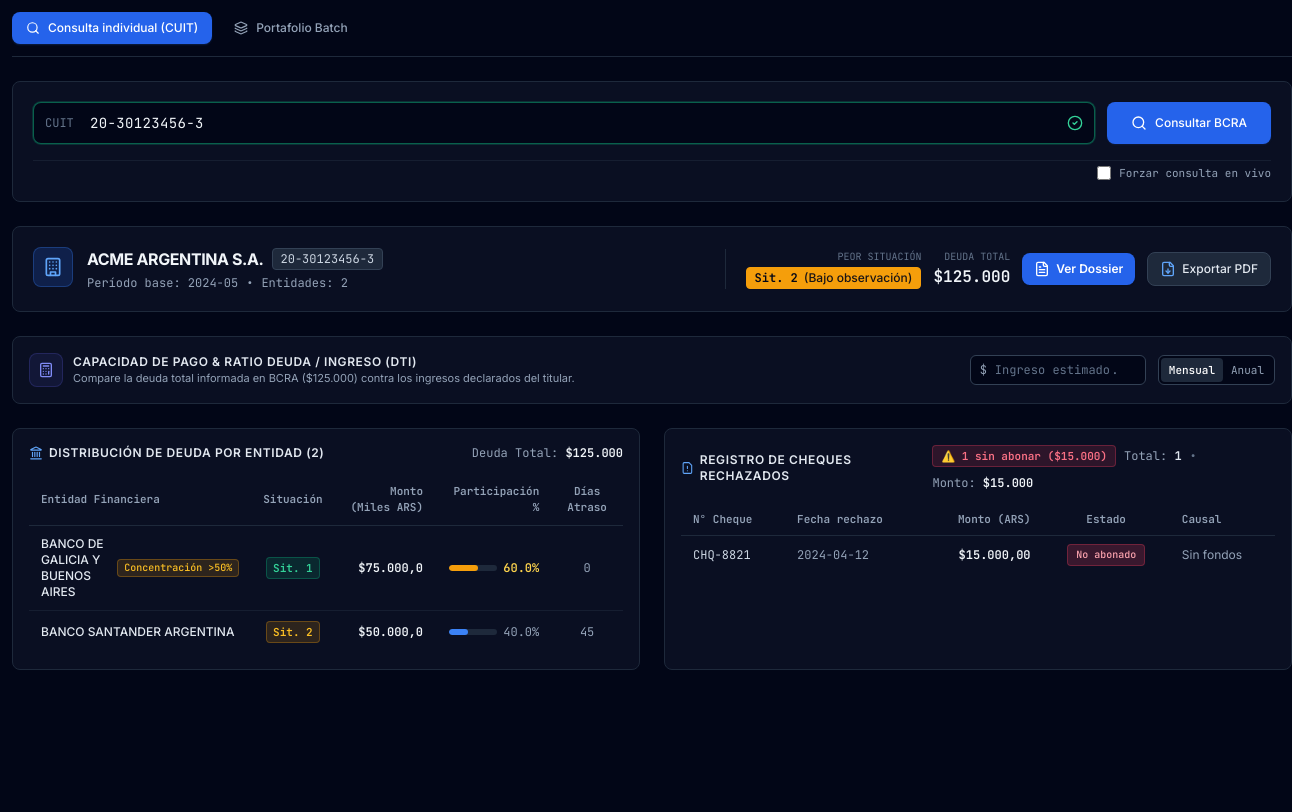
Test: Credit Screener Components › calculates and displays DTI ratio when income is entered
Expected: the heading "ACME ARGENTINA S.A." is shown, [87,247,264,271]
Type "50000" into the number field with placeholder "Ingreso estimado..." at (1058, 370), box [970,355,1146,385]
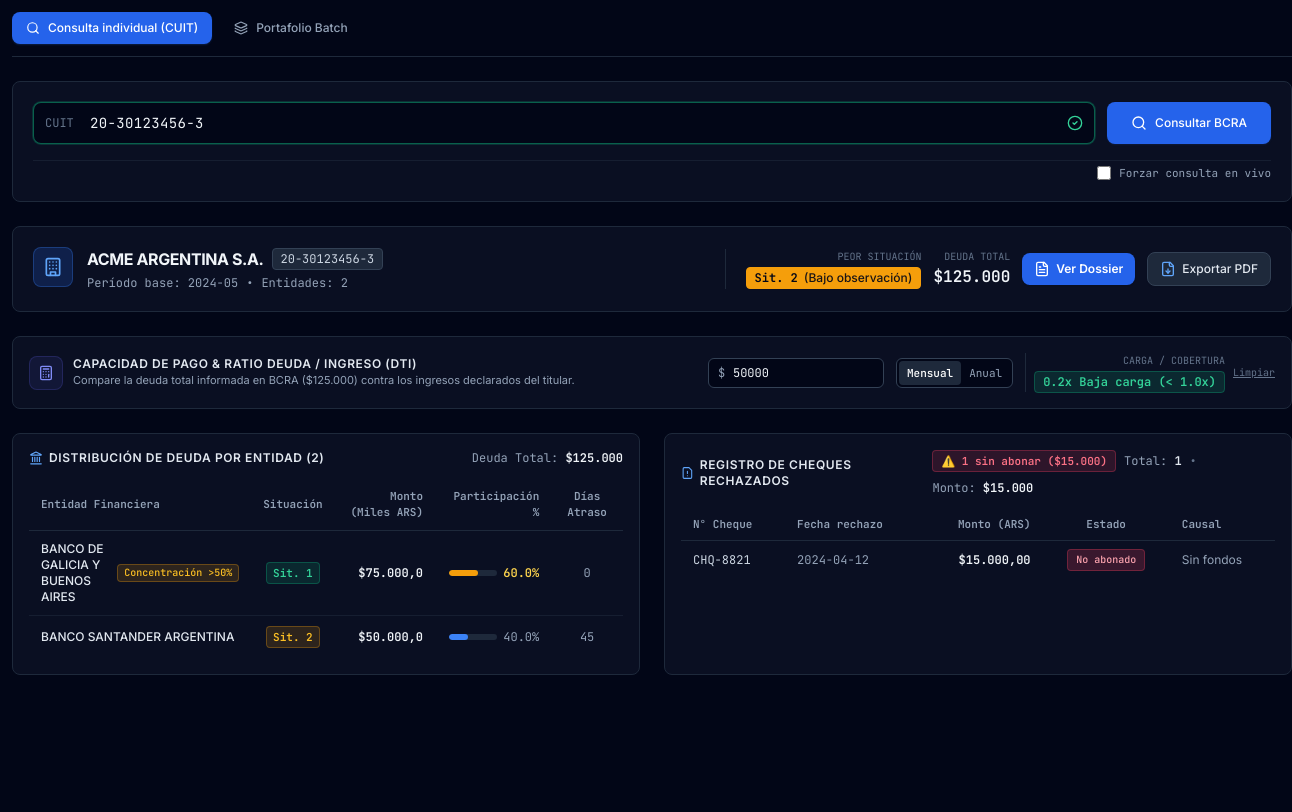
Expected: the text "Carga / Cobertura" is shown, [1123,354,1225,367]
